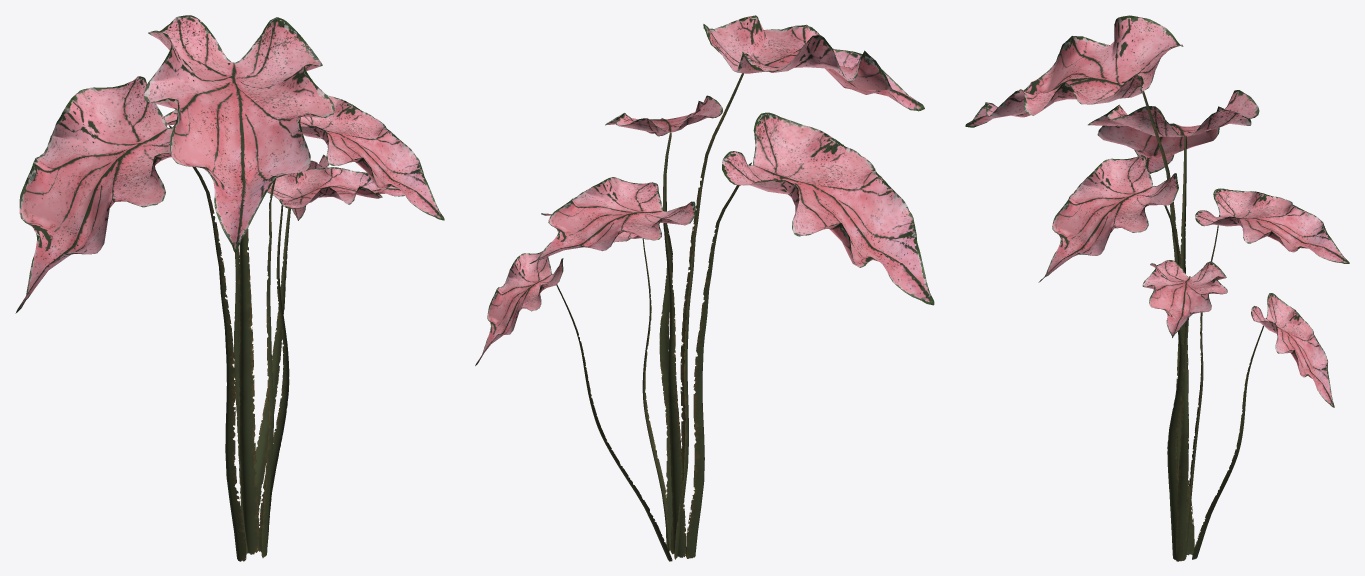
The model's file is exoticPinkLeafedPlant_edit_for_FBX.fbx.
The picture shows the model from 3 angles, left to right: view 1: azimuth 30°, elevation 25°; view 2: azimuth 150°, elevation 25°; view 3: azimuth 270°, elevation 25°; orthographic projection. The views are drawn at different scales.
Parts seen in each view (by area): view 1: plants01; view 2: plants01; view 3: plants01.
Boxes of the visible parts, left/top/right/bottom form: plants01: left=15, top=15, right=444, bottom=561; plants01: left=475, top=15, right=934, bottom=561; plants01: left=965, top=15, right=1349, bottom=561.
Size of the model in its own units: 13551 by 17884 by 12654.
